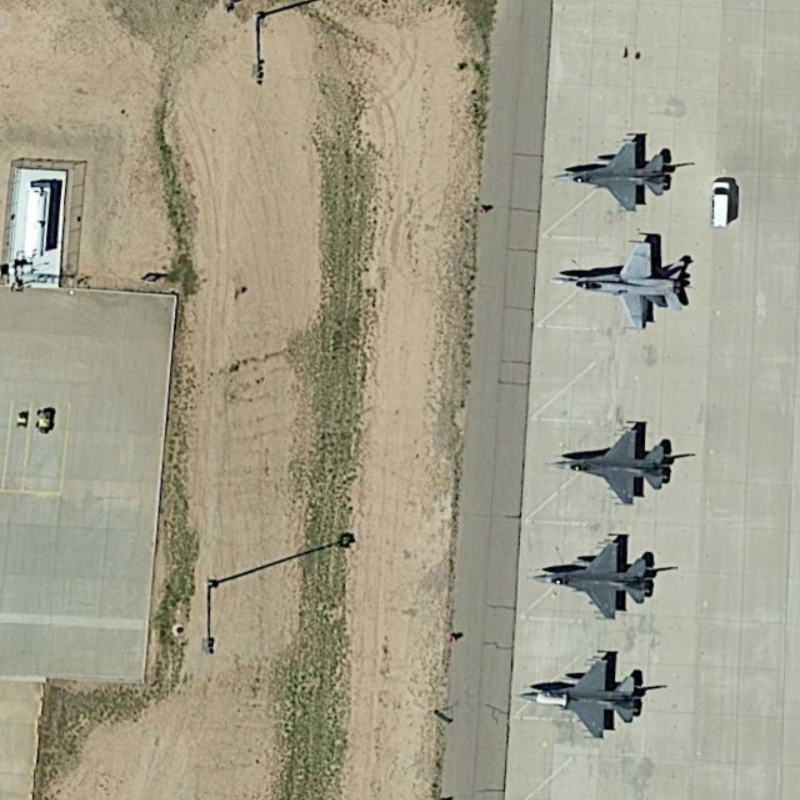A16: (547, 230, 695, 333)
A5: (545, 411, 687, 515), (550, 120, 675, 225), (515, 650, 654, 741), (530, 532, 666, 623)
